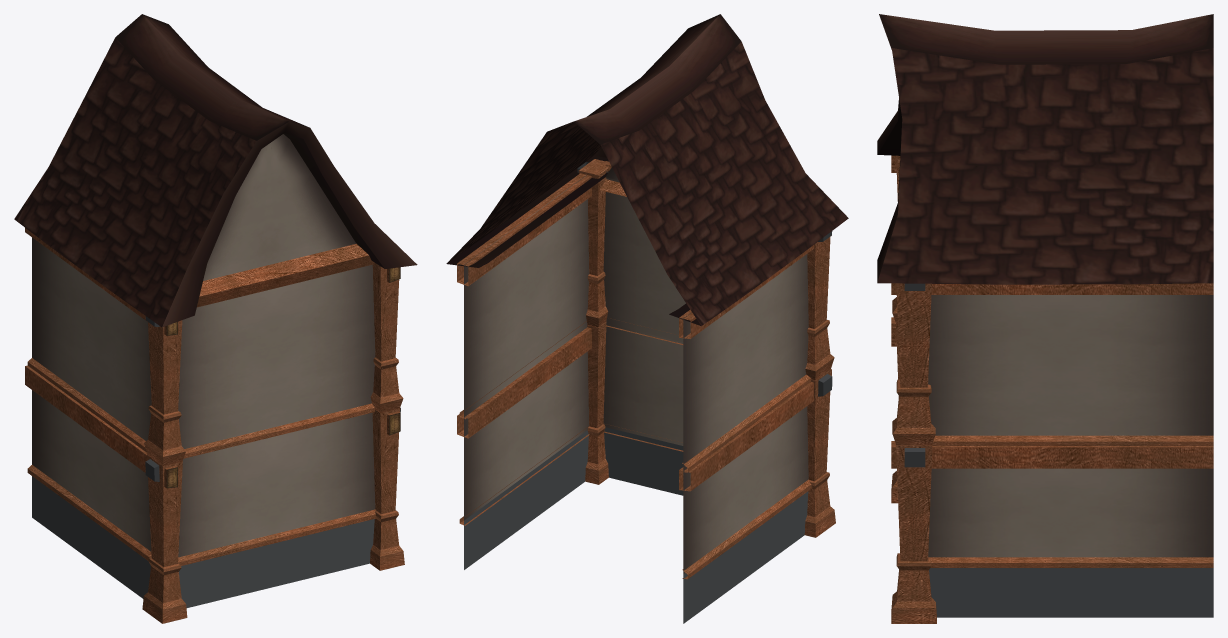
Rendered from fanasty_mod_extention_block03.fbx.
The picture shows the model from 3 angles, left to right: view 1: azimuth 30°, elevation 25°; view 2: azimuth 150°, elevation 25°; view 3: azimuth 270°, elevation 25°; orthographic projection. The views are drawn at different scales.
Parts seen in each view (by area): view 1: extention_block03; view 2: extention_block03; view 3: extention_block03.
Part boxes in pixels (box(x1,y1,x2,y2)): extention_block03: box(14, 14, 417, 623); extention_block03: box(446, 14, 848, 623); extention_block03: box(877, 14, 1213, 623).
Size of the model in its own units: 6.3 by 11.22 by 6.3.
